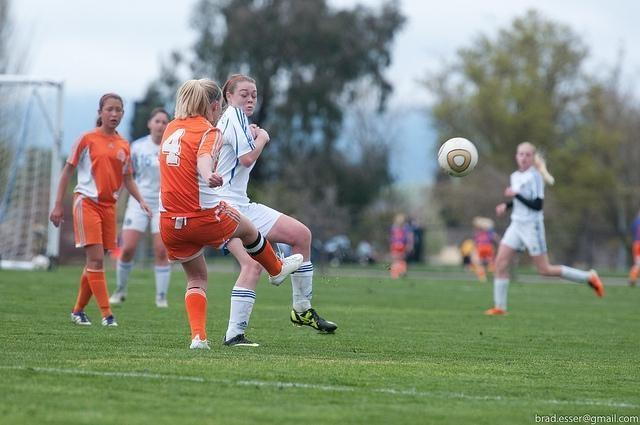car: (322, 232, 381, 267)
